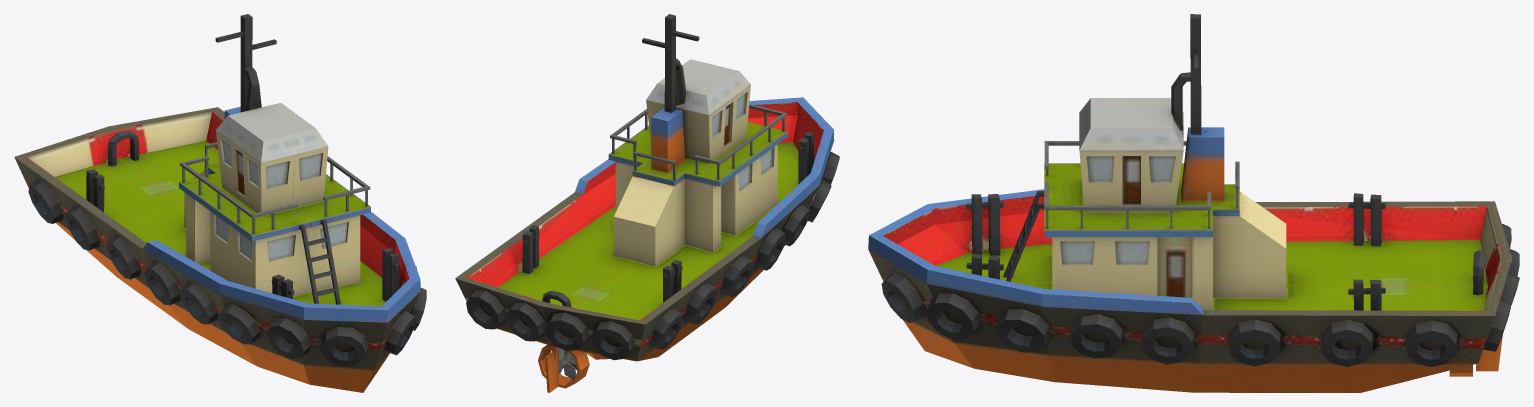
Rendered from tug_model.glb.
The picture shows the model from 3 angles, left to right: view 1: azimuth 30°, elevation 25°; view 2: azimuth 150°, elevation 25°; view 3: azimuth 270°, elevation 25°; orthographic projection. The views are drawn at different scales.
Visible parts, largest first — view 1: Tugboat_mesh; view 2: Tugboat_mesh; view 3: Tugboat_mesh.
Part boxes in pixels (left/top/right/bottom): Tugboat_mesh: left=14, top=14, right=426, bottom=392; Tugboat_mesh: left=455, top=14, right=839, bottom=392; Tugboat_mesh: left=868, top=14, right=1519, bottom=392.
Size of the model in its own units: 4.72 by 6.4 by 10.59.
Materials: 1 (1 with a texture image).
